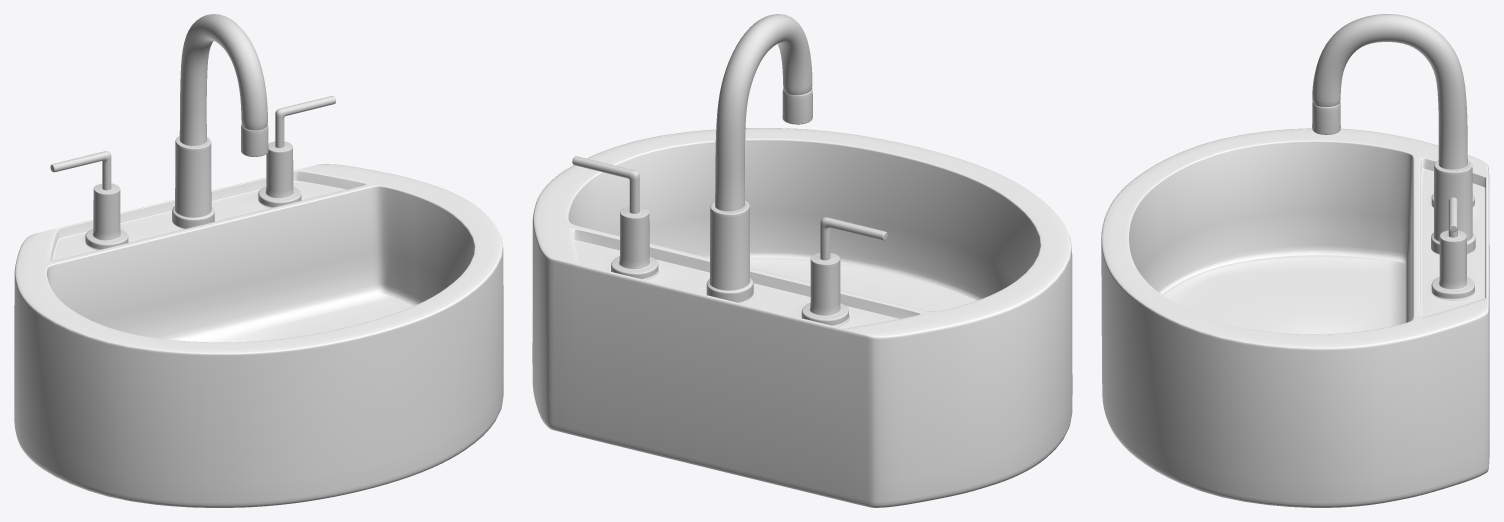
The picture shows the model from 3 angles, left to right: view 1: azimuth 30°, elevation 25°; view 2: azimuth 150°, elevation 25°; view 3: azimuth 270°, elevation 25°; orthographic projection. The views are drawn at different scales.
Parts seen in each view (by area): view 1: SinkElevated002; view 2: SinkElevated002; view 3: SinkElevated002.
Part boxes in pixels (<box>): SinkElevated002: <box>14,14,503,507</box>; SinkElevated002: <box>532,14,1072,507</box>; SinkElevated002: <box>1101,14,1489,507</box>.
Bounding box in the file's own units: 0.7282 × 0.5883 × 0.54.
Materials: 1 (1 with a texture image).
